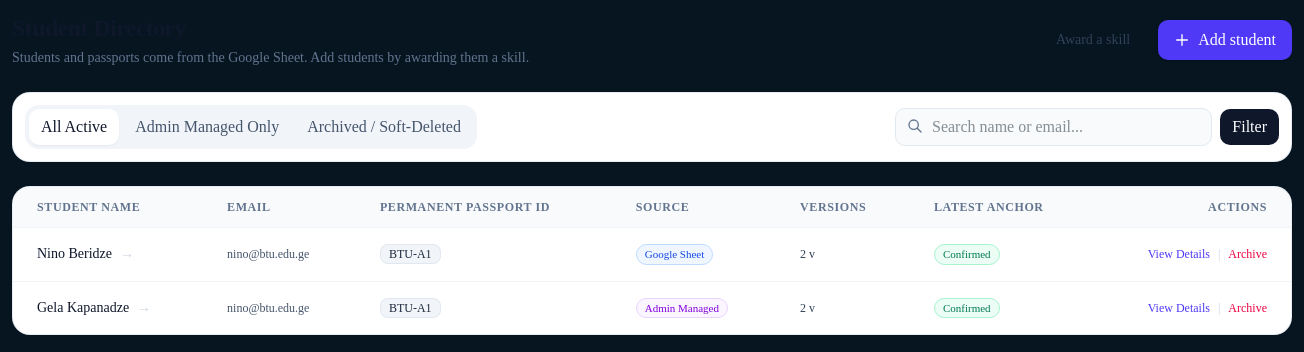
Scenario: student directory › asks the API for archived students and shows them with a Restore button
Expected: the link "Nino Beridze →" is shown, left=37, top=246, right=134, bottom=261
Click the button "Archived / Soft-Deleted".
click(384, 127)  # box left=295, top=109, right=473, bottom=145
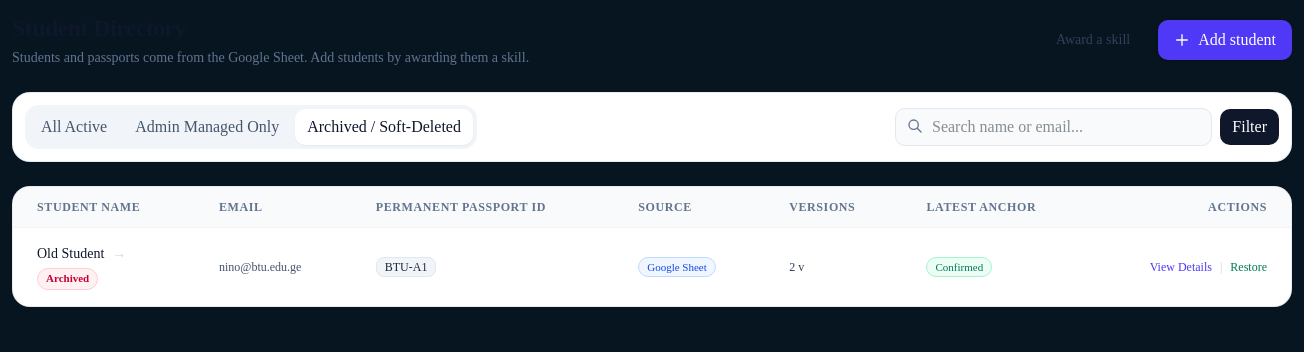
Result: the link "Old Student →" is shown at left=37, top=246, right=126, bottom=261
Result: the link "Nino Beridze" is gone
Result: the button "Restore" is shown at left=1230, top=259, right=1267, bottom=275
